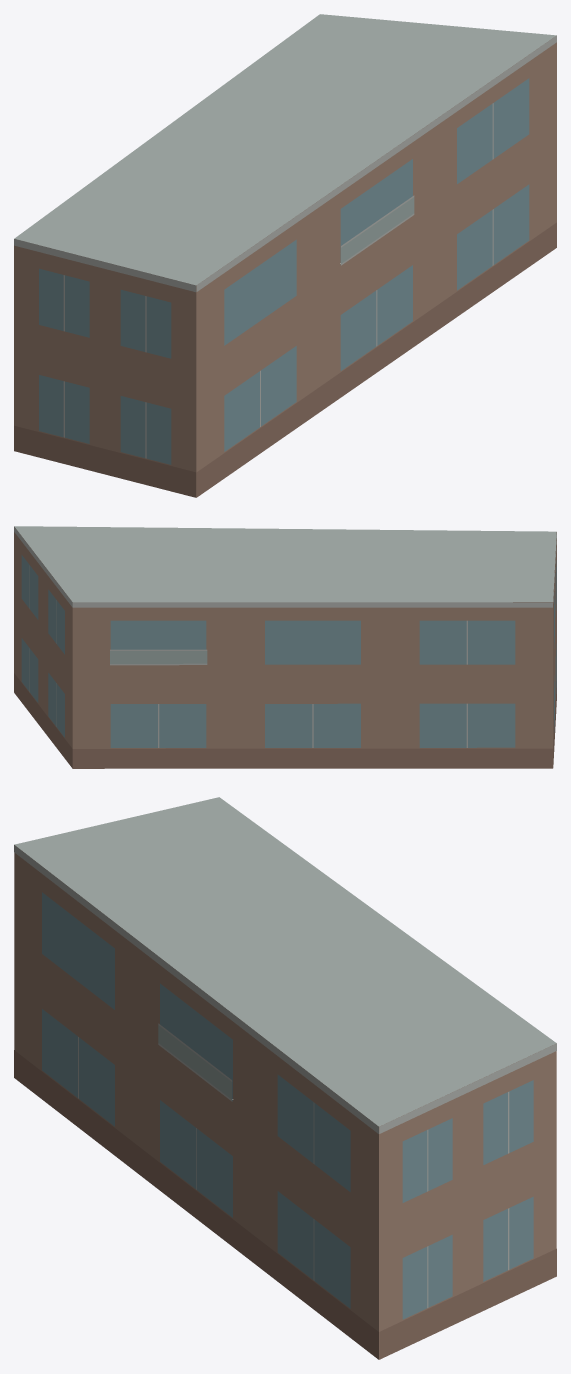
File: survey-upis-32888267.glb
The picture shows the model from 3 angles, top to bottom: view 1: azimuth 30°, elevation 25°; view 2: azimuth 150°, elevation 25°; view 3: azimuth 270°, elevation 25°; orthographic projection. The views are drawn at different scales.
Parts seen in each view (by area): view 1: survey-upis-32888267.tmp; view 2: survey-upis-32888267.tmp; view 3: survey-upis-32888267.tmp.
Boxes of the visible parts, bbox=[...] form: survey-upis-32888267.tmp: bbox=[14, 14, 556, 497]; survey-upis-32888267.tmp: bbox=[14, 526, 556, 768]; survey-upis-32888267.tmp: bbox=[14, 797, 556, 1359].
Size of the model in its own units: 22.75 by 7.5 by 15.83.
